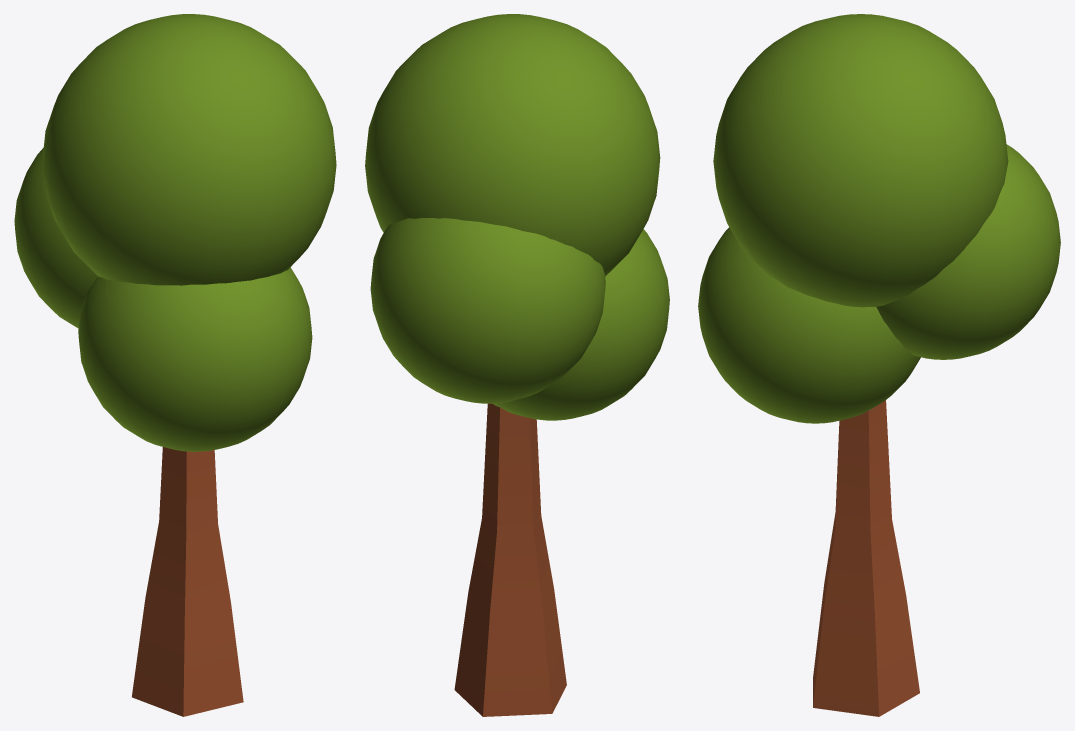
The model's file is tree (2).fbx.
3 renders of one model, left to right at view 1: azimuth 30°, elevation 25°; view 2: azimuth 150°, elevation 25°; view 3: azimuth 270°, elevation 25°, orthographic.
Visible parts, largest first — view 1: Cylinder; view 2: Cylinder; view 3: Cylinder.
Boxes of the visible parts, x1,y1,x2,y2 form: Cylinder: [14, 14, 336, 716]; Cylinder: [365, 14, 669, 716]; Cylinder: [698, 14, 1060, 716].
Bounding box in the file's own units: 652 × 1624 × 803.
Materials: 1 (1 with a texture image).
